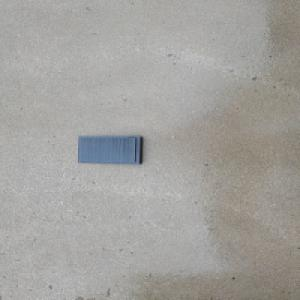PlasticPart: (75, 135, 144, 164)
